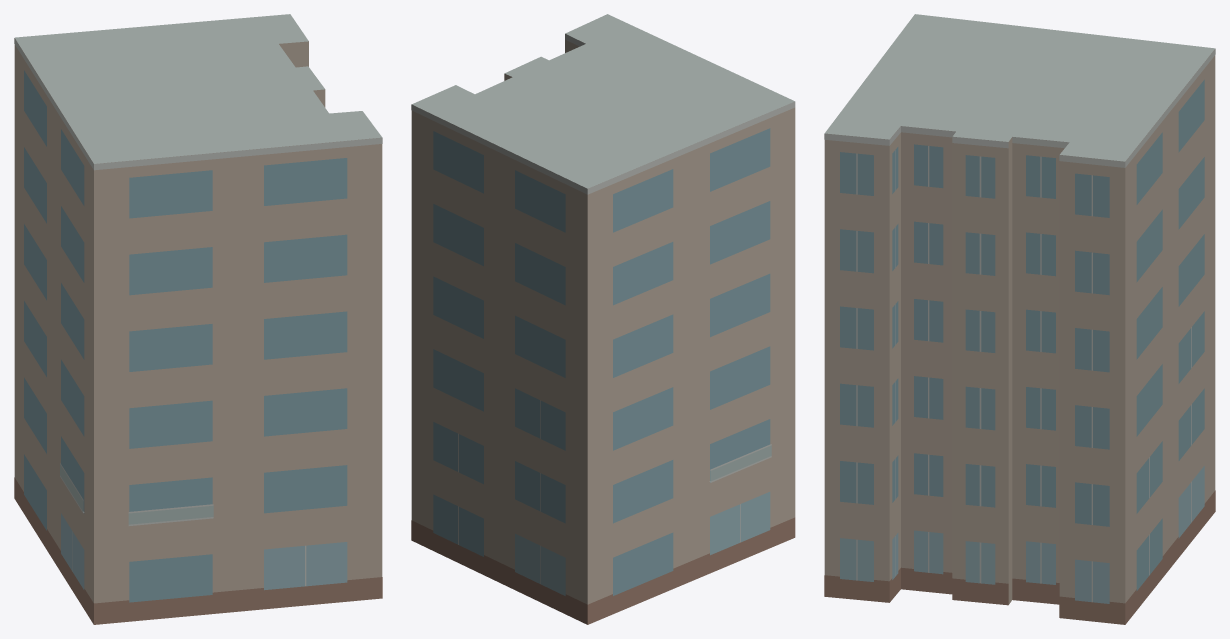
The model's file is survey-upis-32990619.glb.
The picture shows the model from 3 angles, left to right: view 1: azimuth 30°, elevation 25°; view 2: azimuth 150°, elevation 25°; view 3: azimuth 270°, elevation 25°; orthographic projection. The views are drawn at different scales.
Parts seen in each view (by area): view 1: survey-upis-32990619.tmp; view 2: survey-upis-32990619.tmp; view 3: survey-upis-32990619.tmp.
Part boxes in pixels (<box>): survey-upis-32990619.tmp: <box>14,14,382,624</box>; survey-upis-32990619.tmp: <box>411,14,795,624</box>; survey-upis-32990619.tmp: <box>824,14,1215,624</box>.
Bounding box in the file's own units: 12.24 × 17.9 × 13.7.
